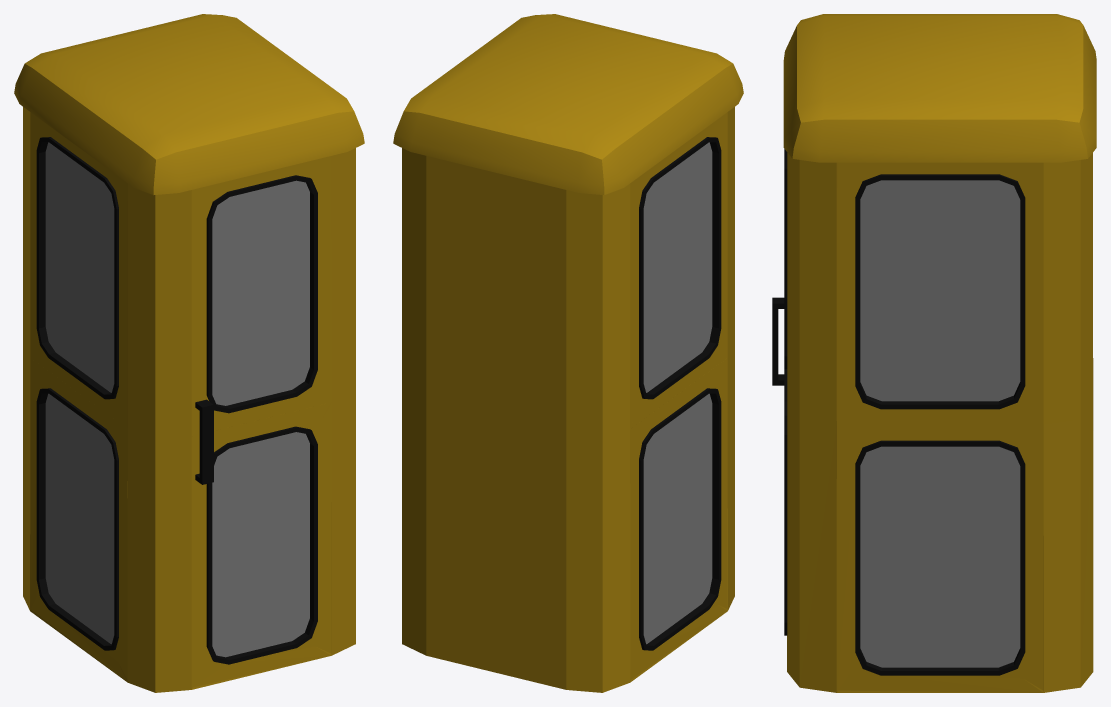
The model's file is SM_telephone_booth.fbx.
The picture shows the model from 3 angles, left to right: view 1: azimuth 30°, elevation 25°; view 2: azimuth 150°, elevation 25°; view 3: azimuth 270°, elevation 25°; orthographic projection. The views are drawn at different scales.
Visible parts, largest first — view 1: Object006; view 2: Object006; view 3: Object006.
Part boxes in pixels (x1,y1,x2,y2): Object006: [14, 14, 364, 692]; Object006: [393, 14, 743, 692]; Object006: [772, 14, 1096, 692].
Bounding box in the file's own units: 45.07 × 52.94 × 104.
